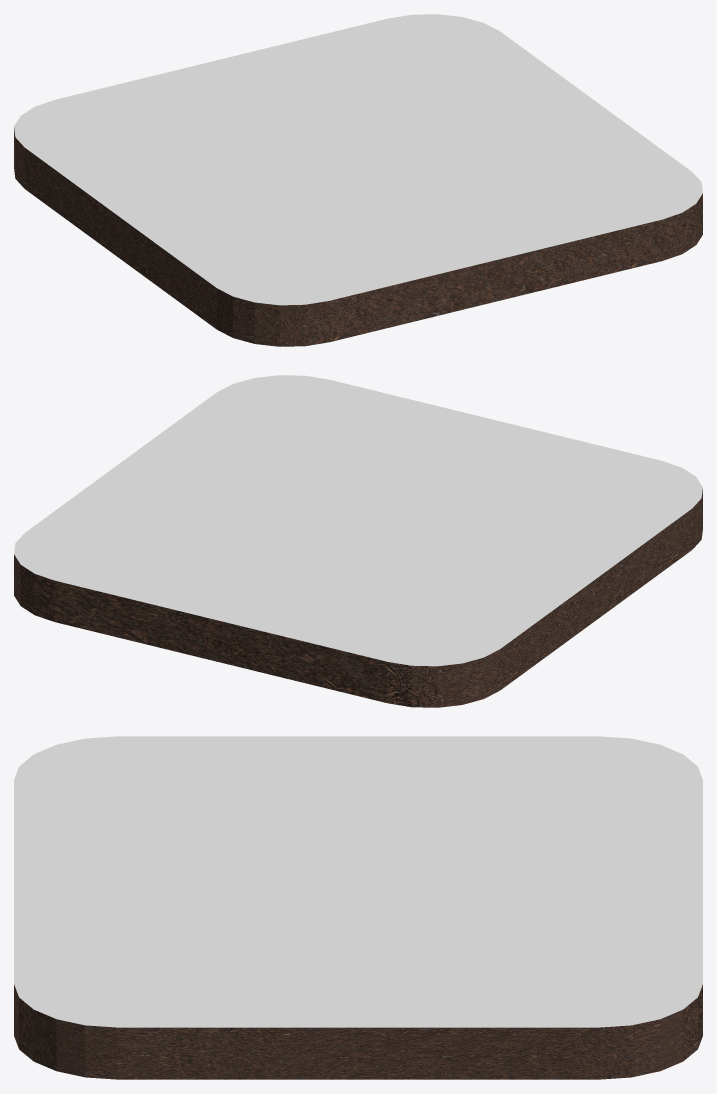
Rendered from Cobble_big.fbx.
The picture shows the model from 3 angles, top to bottom: view 1: azimuth 30°, elevation 25°; view 2: azimuth 150°, elevation 25°; view 3: azimuth 270°, elevation 25°; orthographic projection. The views are drawn at different scales.
Visible parts, largest first — view 1: cobb_big; view 2: cobb_big; view 3: cobb_big.
Boxes of the visible parts, x1,y1,x2,y2 form: cobb_big: [14, 14, 702, 346]; cobb_big: [14, 375, 702, 707]; cobb_big: [14, 736, 702, 1079].
Size of the model in its own units: 1200 by 100 by 1200.
